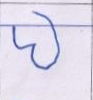o_matra: (45, 10, 64, 67)
